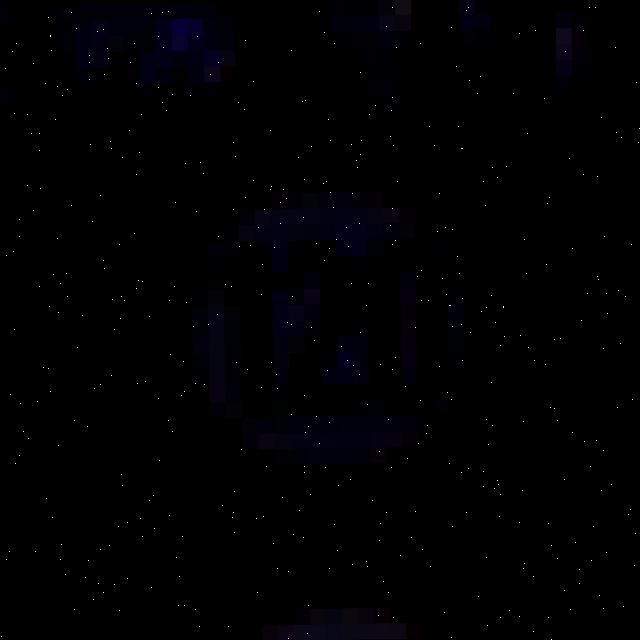Ograniczenie predkosci do 120: (138, 134, 522, 532)
